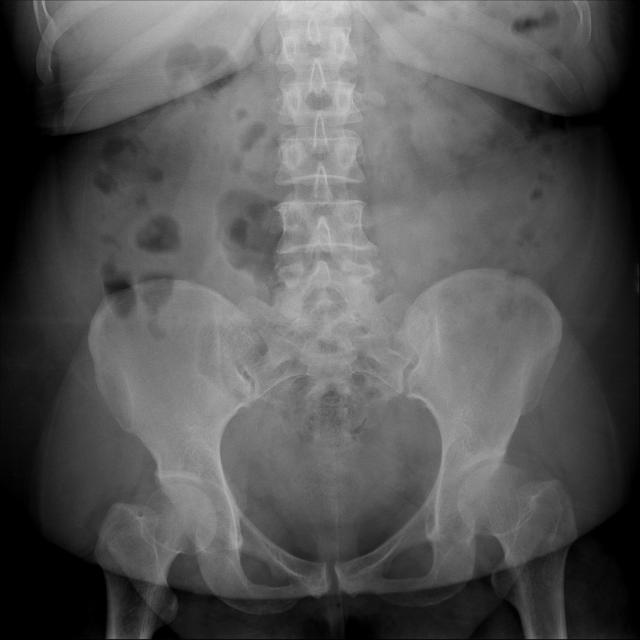normal-left: (458, 463, 578, 640)
normal-right: (93, 483, 217, 639)
